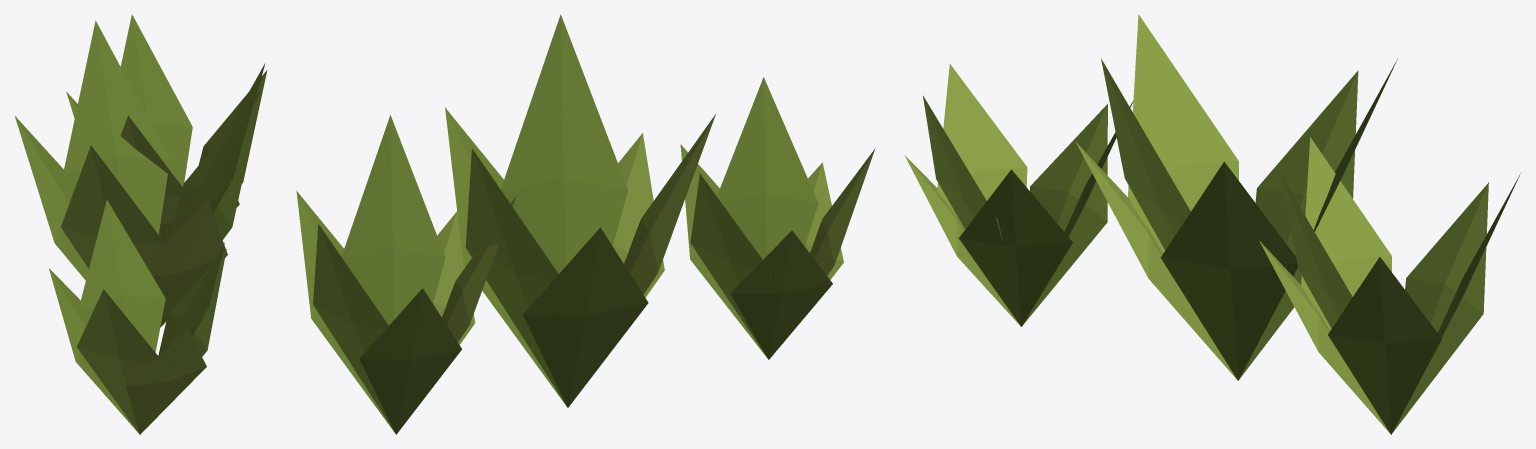
File: 93_short_grass_tuft.fbx
3 renders of one model, left to right at view 1: azimuth 30°, elevation 25°; view 2: azimuth 150°, elevation 25°; view 3: azimuth 270°, elevation 25°, orthographic. The views are drawn at different scales.
Parts seen in each view (by area): view 1: 93_short_grass_tuft; view 2: 93_short_grass_tuft; view 3: 93_short_grass_tuft.
Part boxes in pixels (x1,y1,x2,y2): 93_short_grass_tuft: (15, 14, 267, 434); 93_short_grass_tuft: (296, 14, 875, 434); 93_short_grass_tuft: (904, 14, 1520, 434).
Size of the model in its own units: 0.3765 by 0.312 by 0.4845.
Materials: 1 (1 with a texture image).
